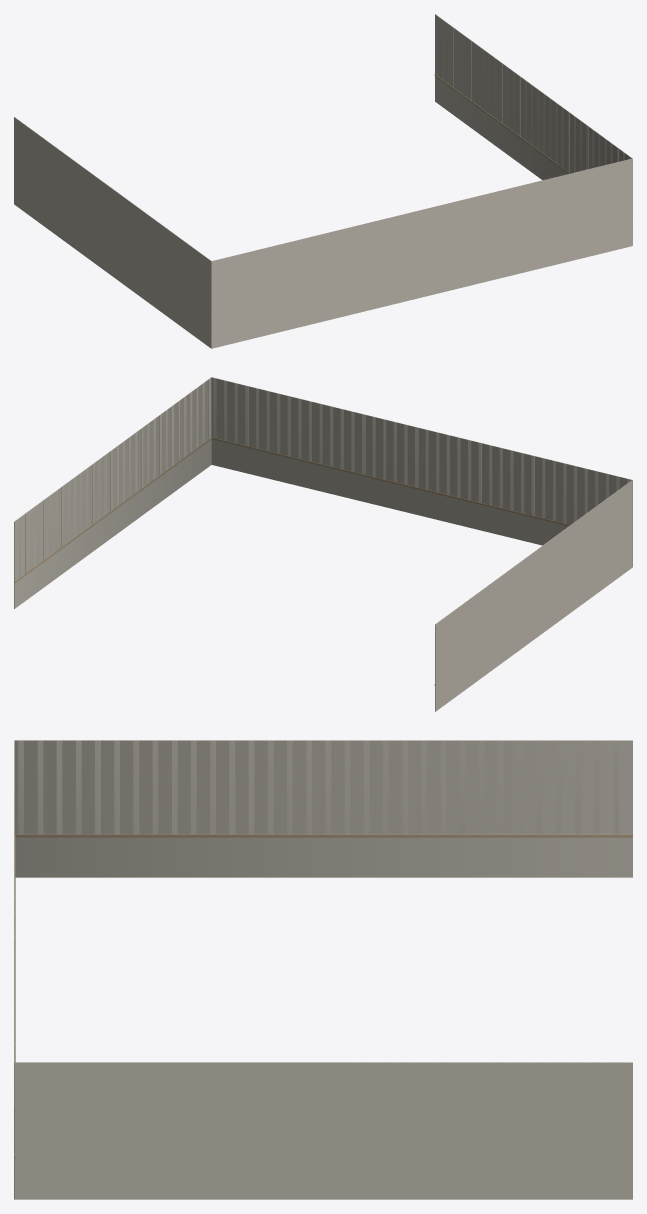
Rendered from home_wallpaper_s3__cream.glb.
3 views of the same model, one above another, from view 1: azimuth 30°, elevation 25°; view 2: azimuth 150°, elevation 25°; view 3: azimuth 270°, elevation 25° (orthographic). The views are drawn at different scales.
Size of the model in its own units: 15.9 by 3.15 by 12.9.
